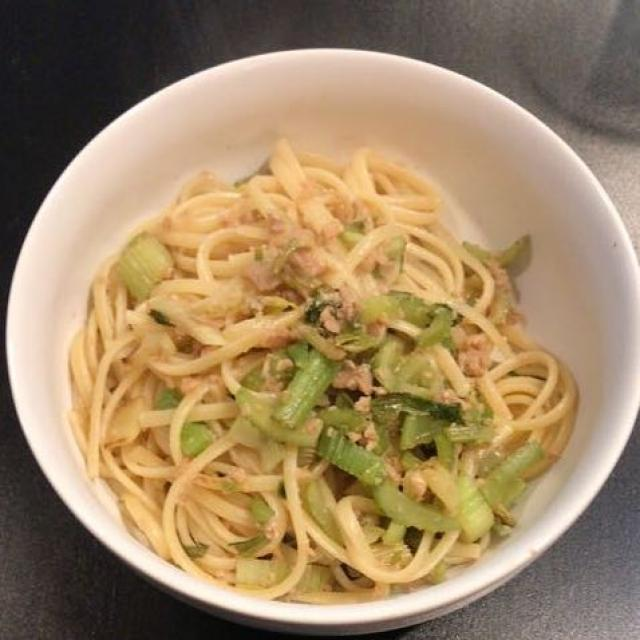celery: (114, 208, 545, 563)
pasta: (77, 155, 568, 594)
